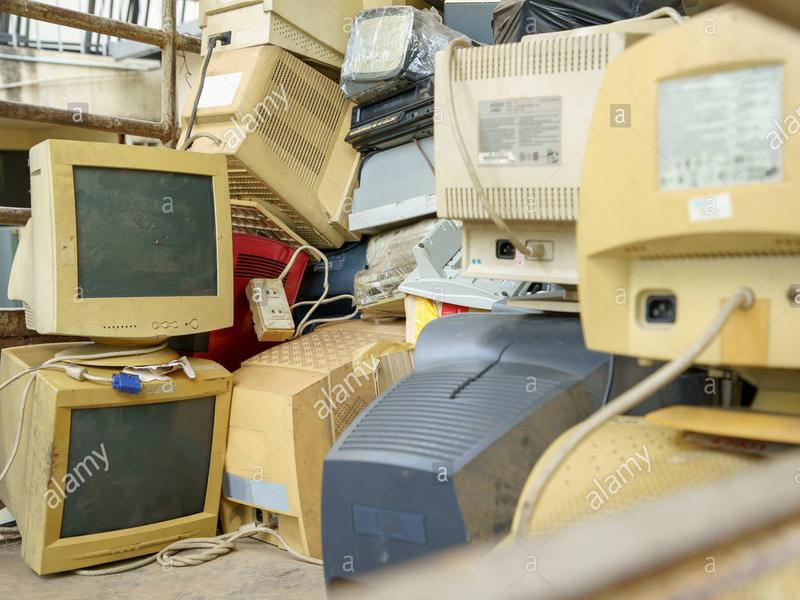tv_pc: (318, 310, 710, 589), (3, 343, 237, 581), (4, 136, 239, 337), (177, 44, 368, 255)
